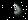person: (16, 2, 27, 18)
